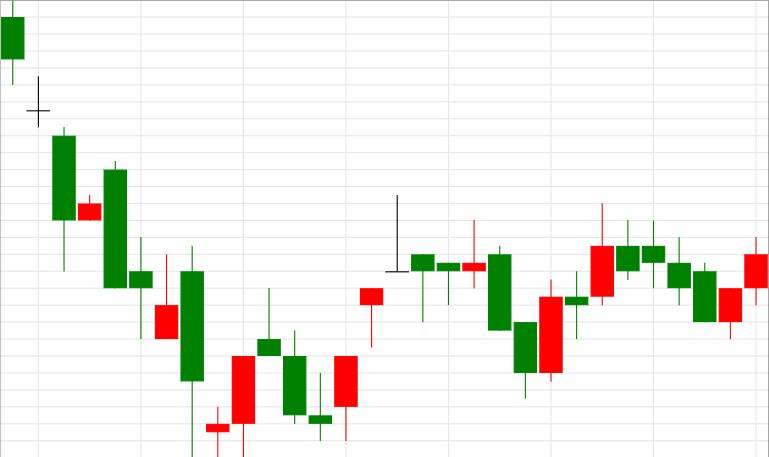morning_star_rise: (1, 0, 256, 457)
